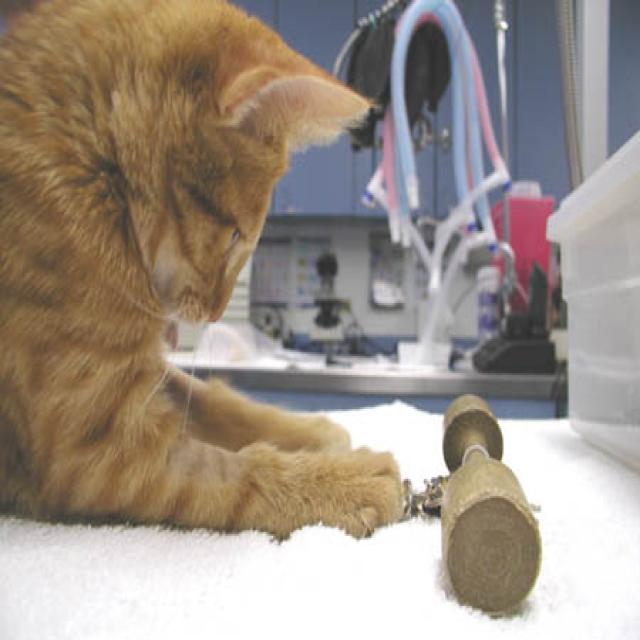Cats: (0, 0, 408, 542)
